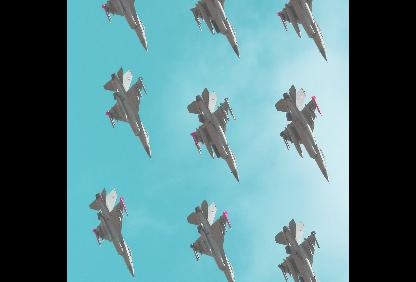F14: (275, 84, 330, 184), (187, 87, 240, 185), (104, 66, 152, 162), (188, 198, 239, 281), (90, 188, 136, 280), (273, 0, 329, 64), (186, 0, 243, 62), (275, 217, 330, 281), (99, 0, 150, 55)
